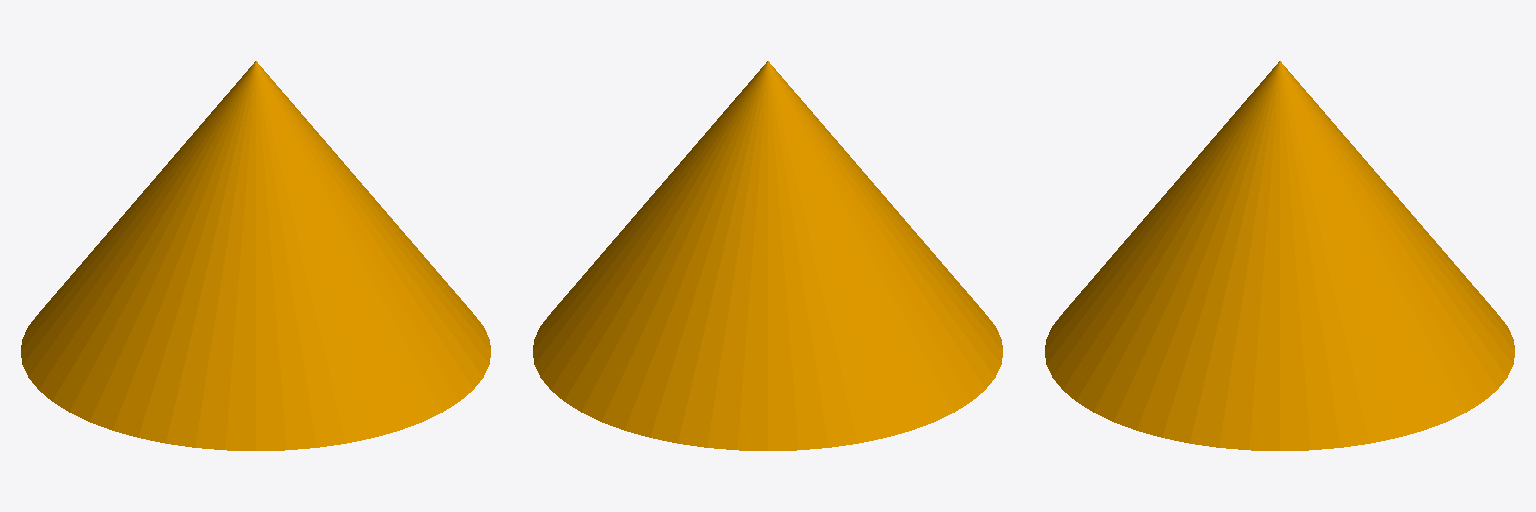
The robot description file, URDF, robot "object":
<?xml version="1.0"?>
<!-- Auto-generated by tools/gen_primitive_objects.py. kind=cone dims=(0.055, 0.075) -->
<robot name="object">
  <link name="object">
    <visual>
      <origin xyz="0 0 0"/>
      <geometry>
        <mesh filename="obj_0.stl"/>
      </geometry>
    </visual>
    <collision>
      <origin xyz="0 0 0"/>
      <geometry>
        <mesh filename="obj_0.stl"/>
      </geometry>
    </collision>
    <inertial>
      <origin xyz="0 0 -0.018750"/>
      <mass value="0.047517"/>
      <inertia ixx="0.00003158" ixy="0.0" ixz="0.0" iyy="0.00003158" iyz="0.0" izz="0.00004312"/>
    </inertial>
  </link>
</robot>

--- What the picture shows (computed from the rendered views, not written in the file) ---
3 views of the same robot in one strip: view 1: azimuth 30°, elevation 25°; view 2: azimuth 150°, elevation 25°; view 3: azimuth 270°, elevation 25° (orthographic).
Robot: object — 1 links, 0 joints (none); root link object; default pose: every joint at zero.
Links seen in each view (by area): view 1: object; view 2: object; view 3: object.
Link boxes in pixels (x1,y1,x2,y2): object: (21, 61, 490, 450); object: (533, 61, 1002, 450); object: (1045, 61, 1514, 450).
Size in the robot's own frame: 0.11 by 0.11 by 0.075 metres.
1 mesh visuals loaded from 1 distinct referenced files (1 binary STL).
